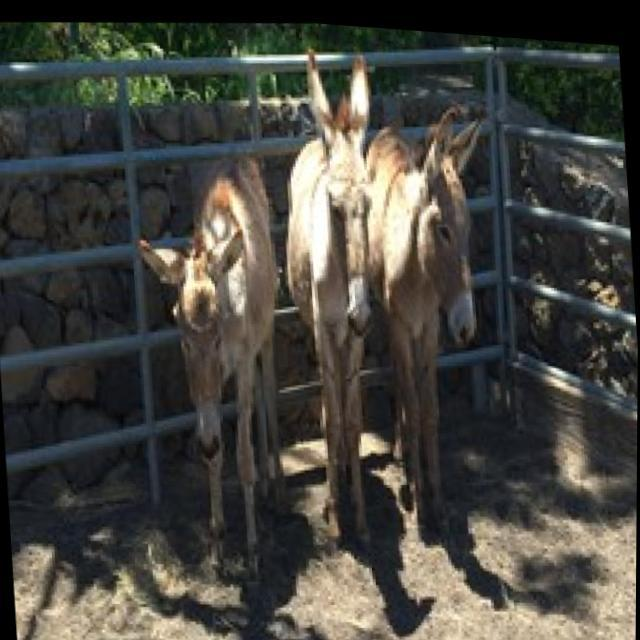Donkey: (128, 136, 304, 583), (358, 89, 516, 534), (268, 34, 405, 545)
